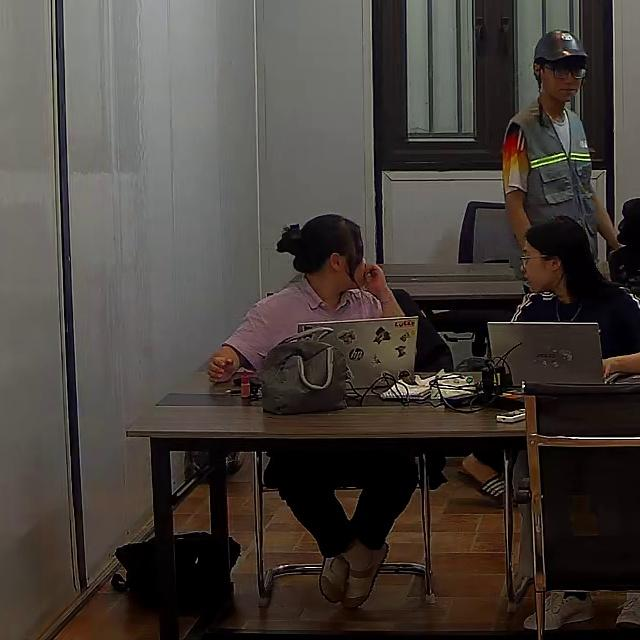helmet: (532, 28, 591, 64)
no_helmet: (522, 214, 625, 304), (277, 213, 362, 276)
none: (220, 277, 382, 376), (512, 285, 638, 361)
vest: (502, 99, 599, 231)
